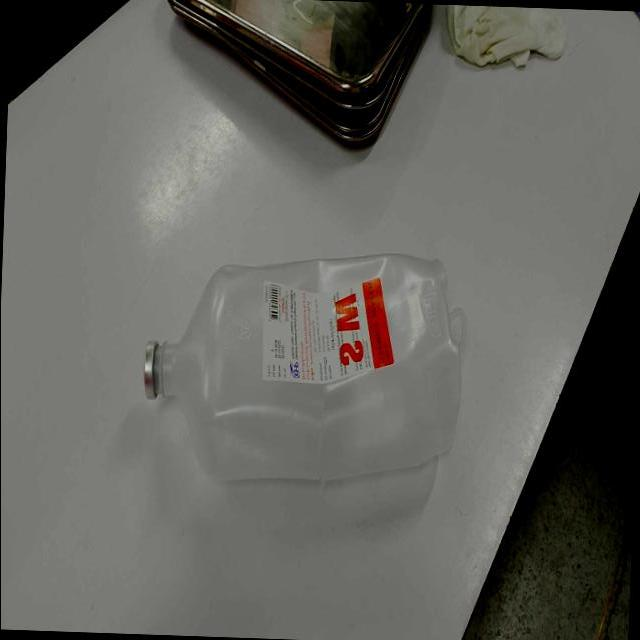General: (4, 1, 639, 637), (142, 249, 468, 513)
Infectious: (445, 4, 567, 70)
Sharps: (166, 0, 435, 150)
